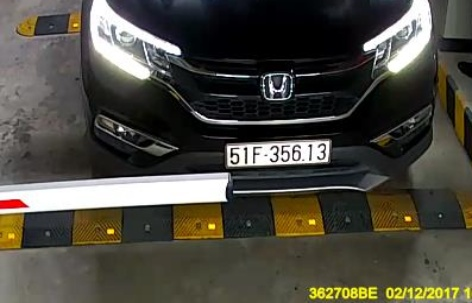plate: (222, 136, 333, 166)
